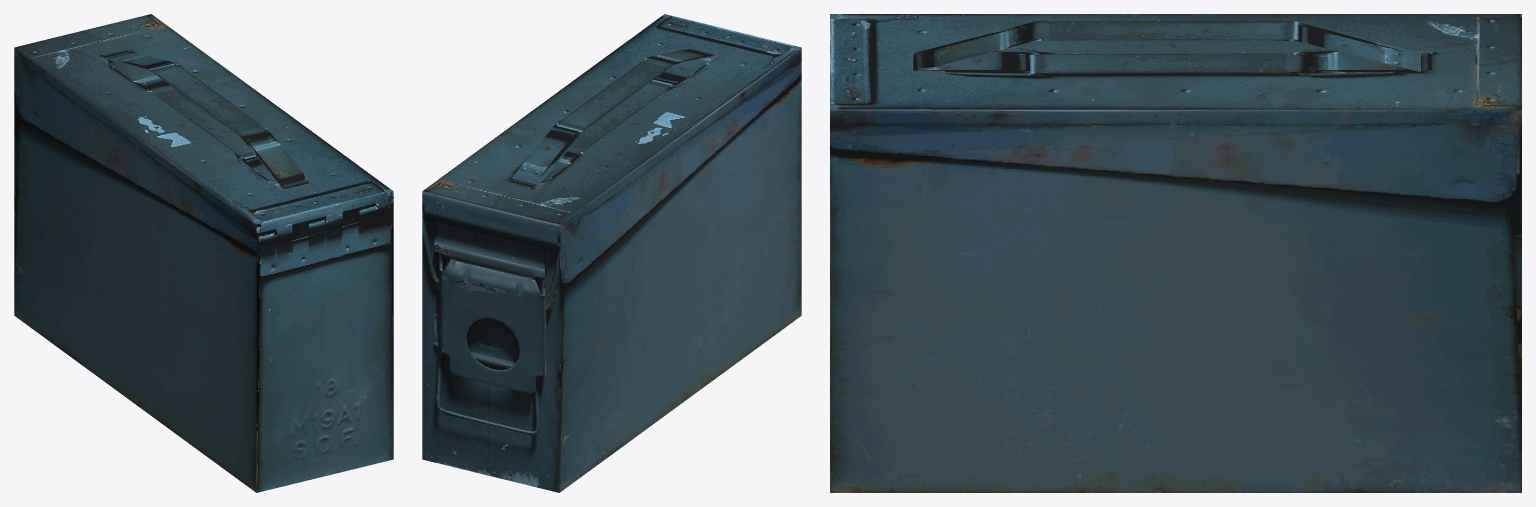
File: ammoCannister.glb
3 views of the same model, side by side, from view 1: azimuth 30°, elevation 25°; view 2: azimuth 150°, elevation 25°; view 3: azimuth 270°, elevation 25° (orthographic). The views are drawn at different scales.
Parts seen in each view (by area): view 1: ammoCan; view 2: ammoCan; view 3: ammoCan.
Boxes of the visible parts, x1,y1,x2,y2 form: ammoCan: (14,14,393,492); ammoCan: (422,14,801,492); ammoCan: (830,14,1521,492).
Bounding box in the file's own units: 0.2845 × 0.5761 × 0.8708.
1 material, 1 textured.
